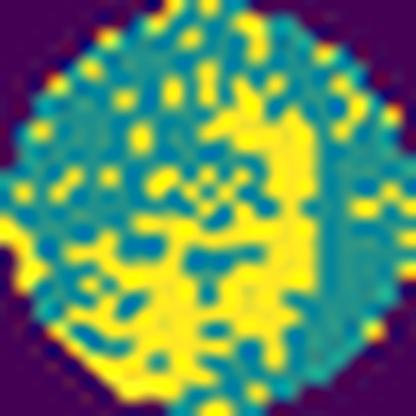Random: (0, 0, 322, 416)
